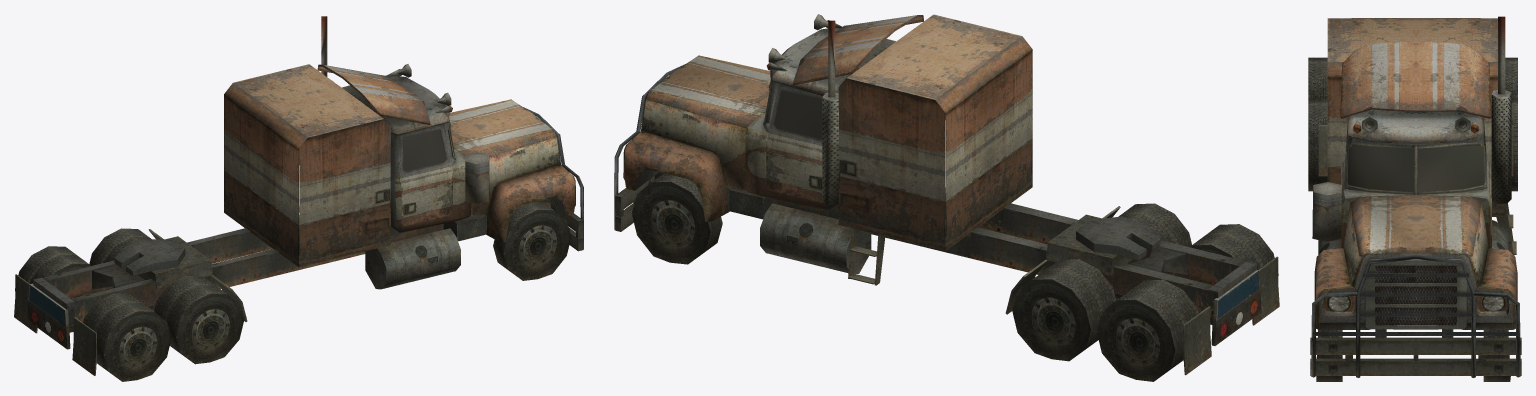
File: Cover_Truck02_lod1.glb
3 views of the same model, side by side, from view 1: azimuth 30°, elevation 25°; view 2: azimuth 150°, elevation 25°; view 3: azimuth 270°, elevation 25° (orthographic). The views are drawn at different scales.
Parts seen in each view (by area): view 1: xiutz_truck_02_lod1; view 2: xiutz_truck_02_lod1; view 3: xiutz_truck_02_lod1.
Boxes of the visible parts, x1=… form: xiutz_truck_02_lod1: x1=14, y1=16, x2=583, y2=381; xiutz_truck_02_lod1: x1=614, y1=14, x2=1279, y2=381; xiutz_truck_02_lod1: x1=1308, y1=16, x2=1521, y2=381.
Size of the model in its own units: 13.85 by 6.4 by 4.39.
1 material, 1 textured.
